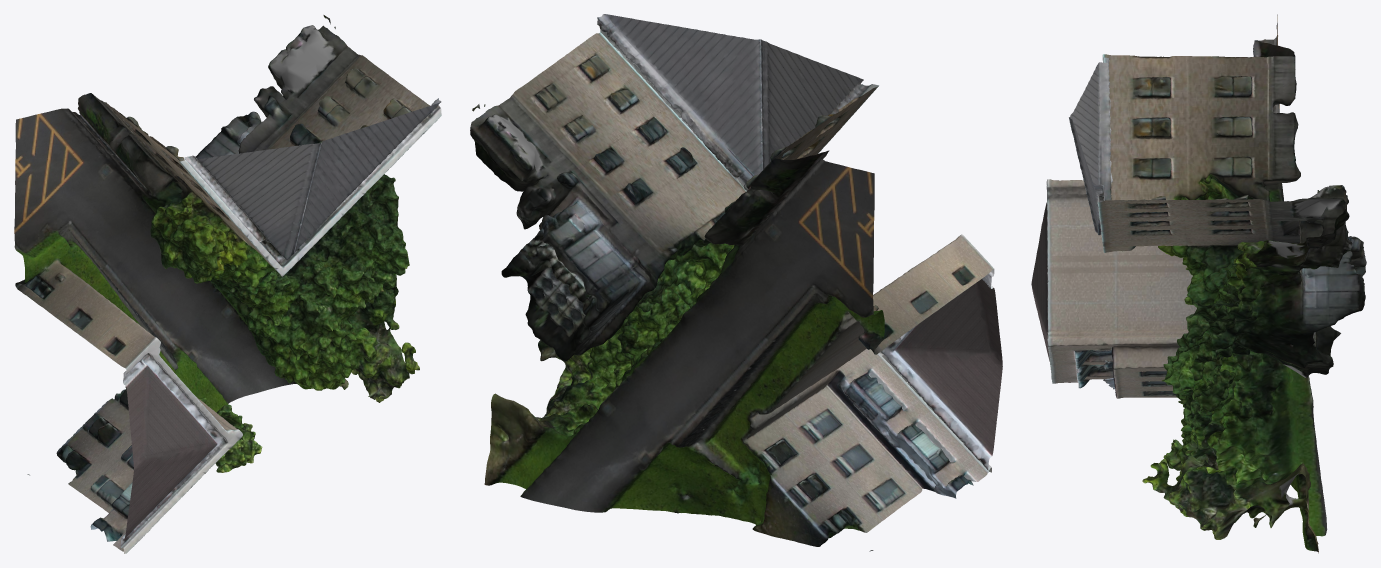
File: Tile_+014_+019.fbx
The picture shows the model from 3 angles, left to right: view 1: azimuth 30°, elevation 25°; view 2: azimuth 150°, elevation 25°; view 3: azimuth 270°, elevation 25°; orthographic projection. The views are drawn at different scales.
Parts seen in each view (by area): view 1: DefaultName; view 2: DefaultName; view 3: DefaultName.
Boxes of the visible parts, left/top/right/bottom form: DefaultName: left=14, top=15, right=441, bottom=553; DefaultName: left=470, top=14, right=1002, bottom=551; DefaultName: left=1031, top=14, right=1366, bottom=553.
Size of the model in its own units: 22.54 by 22.54 by 18.59.
